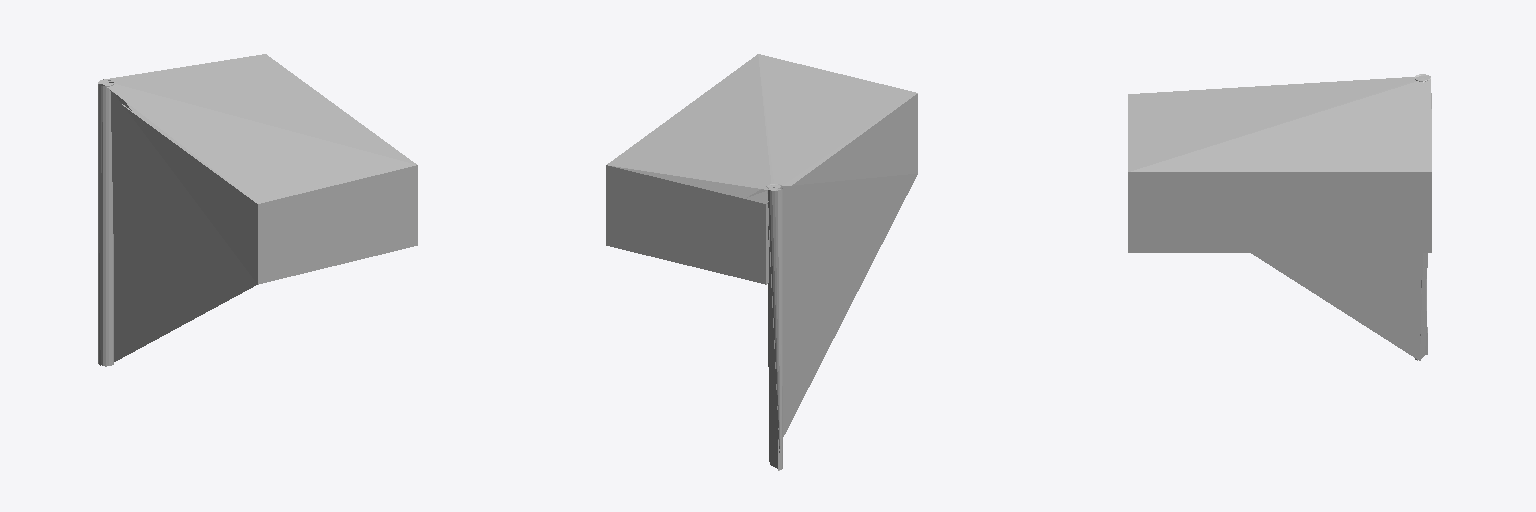
File: desk.obj
The picture shows the model from 3 angles: view 1: azimuth 30°, elevation 25°; view 2: azimuth 150°, elevation 25°; view 3: azimuth 270°, elevation 25°; orthographic projection.
Parts seen in each view (by area): view 1: Cylinder007, Box017; view 2: Cylinder007, Box017; view 3: Cylinder007, Box017.
Boxes of the visible parts, box(x1,y1,x2,y2) form: Cylinder007: box(98, 54, 416, 366); Box017: box(122, 103, 417, 284); Cylinder007: box(607, 54, 917, 470); Box017: box(606, 93, 917, 284); Cylinder007: box(1128, 74, 1431, 360); Box017: box(1128, 172, 1431, 252).
Bounding box in the file's own units: 218327 × 340758 × 334977.